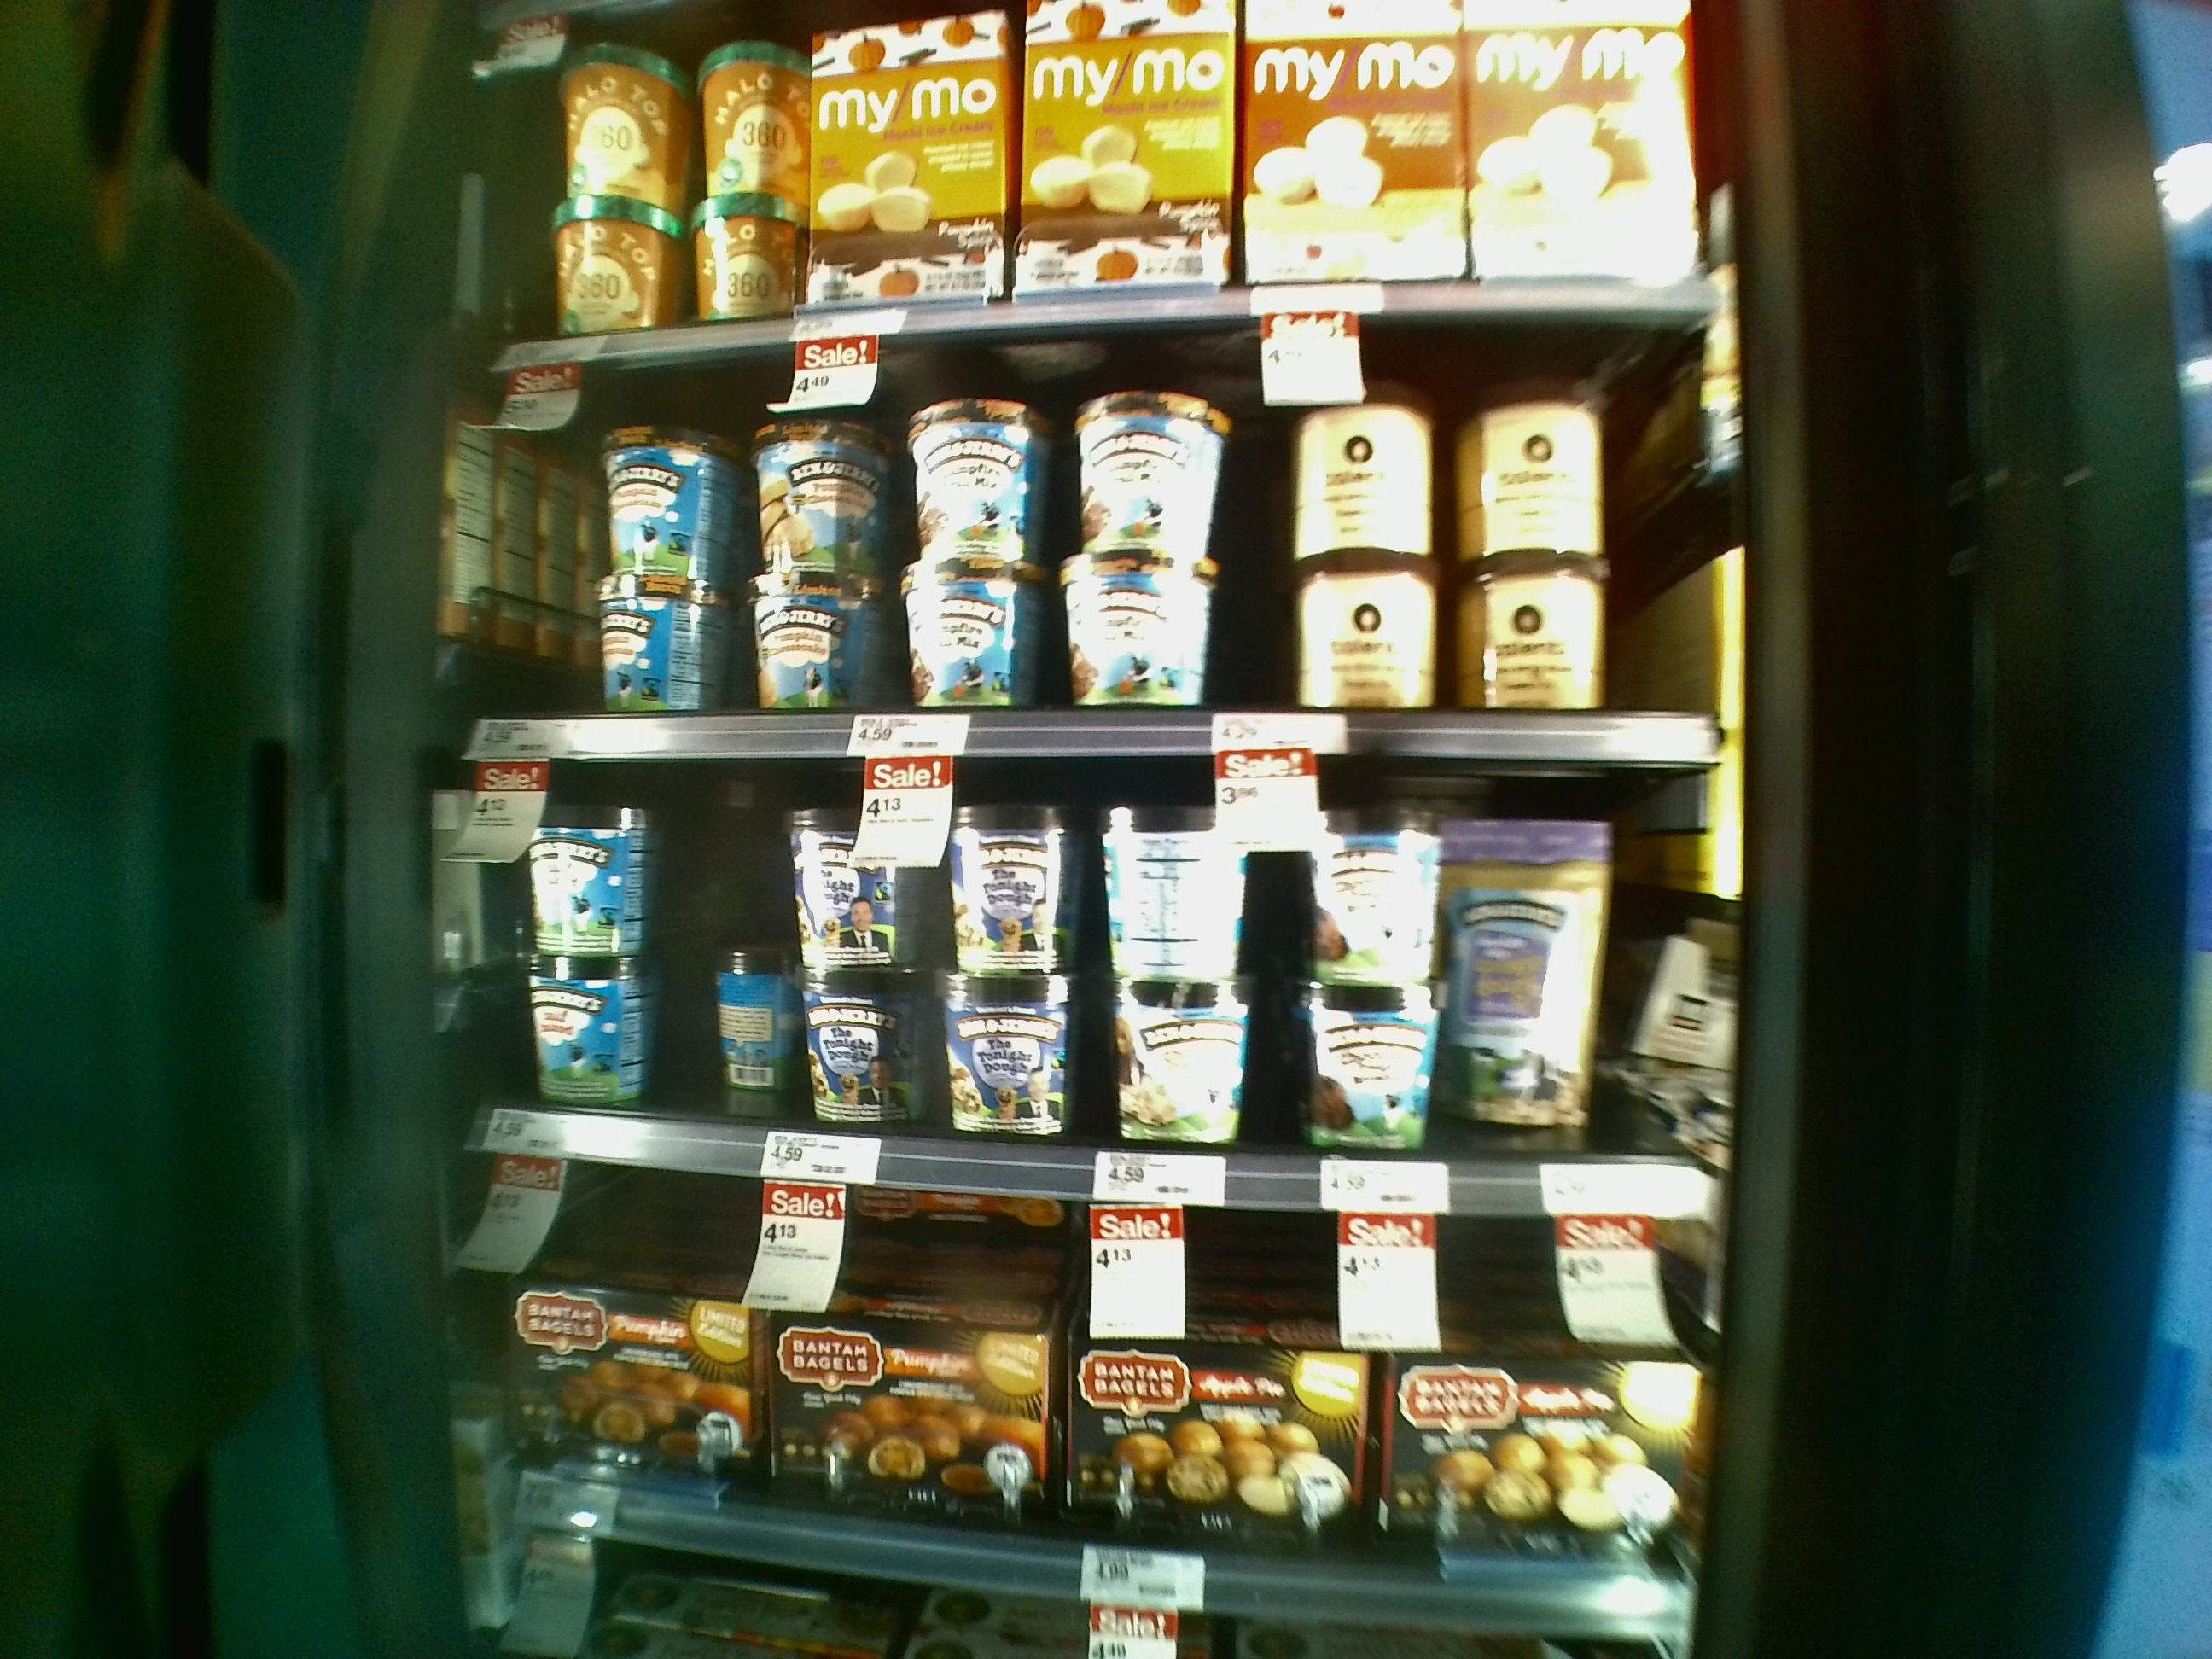shelf: (484, 723, 1749, 1218), (477, 1129, 1688, 1614), (484, 343, 1726, 749)
